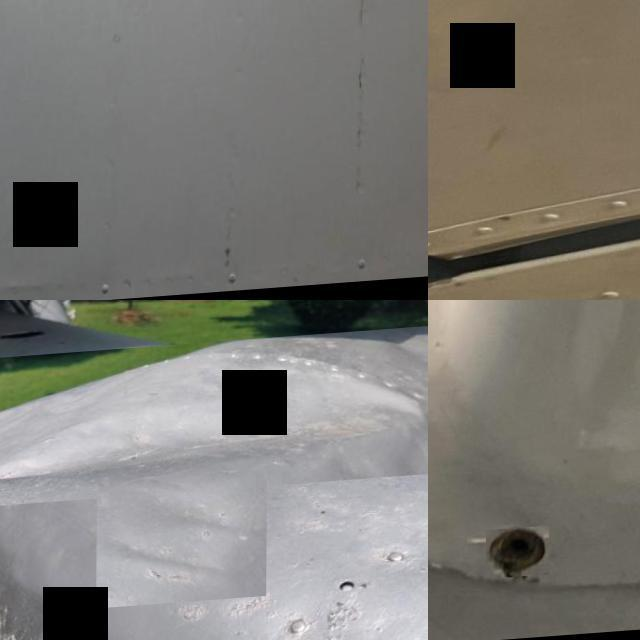Dent: (0, 334, 428, 511), (97, 476, 268, 614)
Missing_Fastener: (487, 528, 550, 580)
